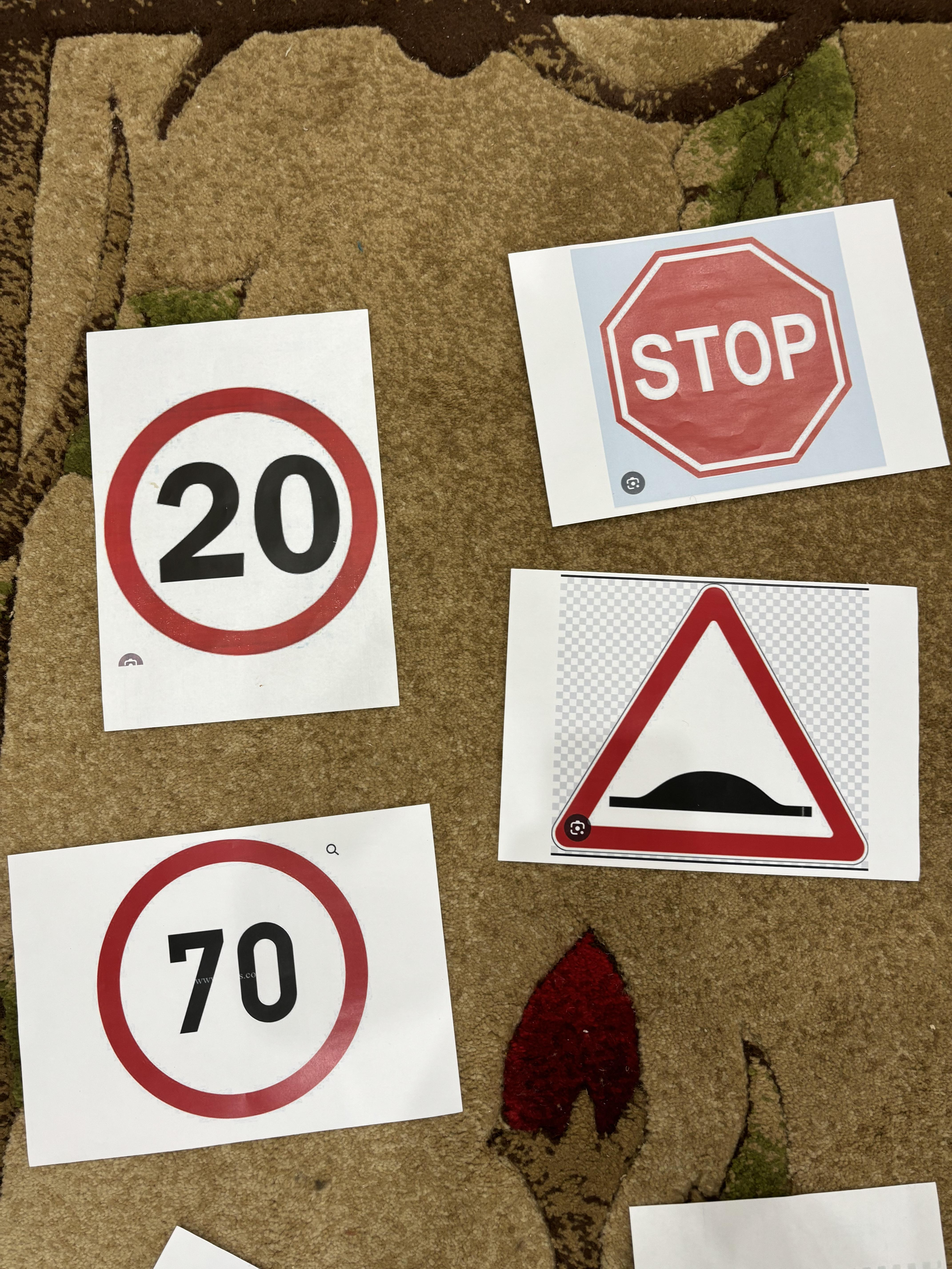20-Speed: (98, 380, 386, 655)
70-Speed: (92, 831, 372, 1116)
Hump: (549, 578, 866, 869)
Stop: (592, 234, 865, 484)
